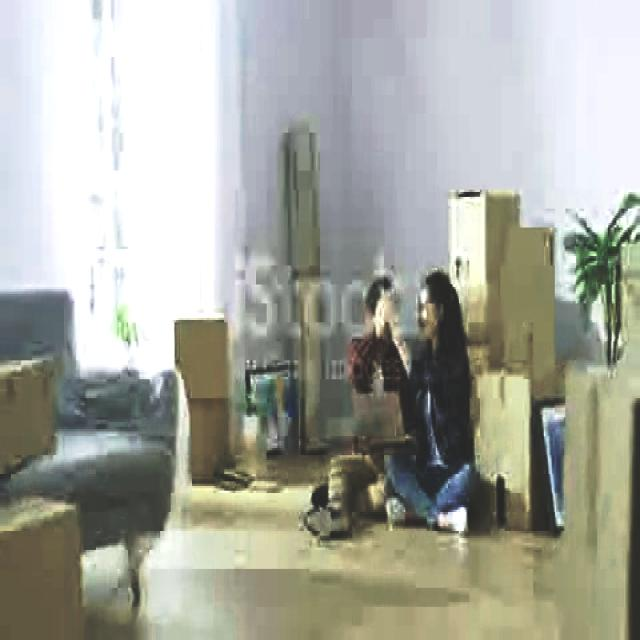Box: (451, 192, 528, 362), (178, 313, 230, 396), (185, 401, 235, 476)
